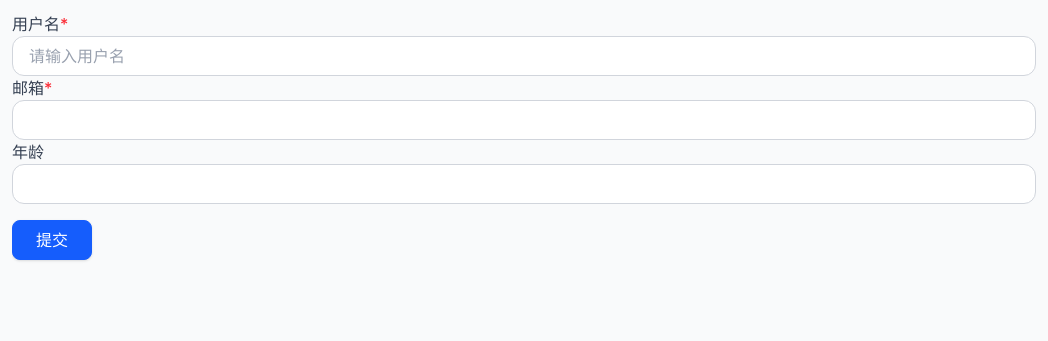
Scenario: Form Component › 表单提交测试 › 应该在验证失败时不提交表单
The image size is (1048, 341).
Click the button "提交": (52, 240) [12, 220, 92, 260]
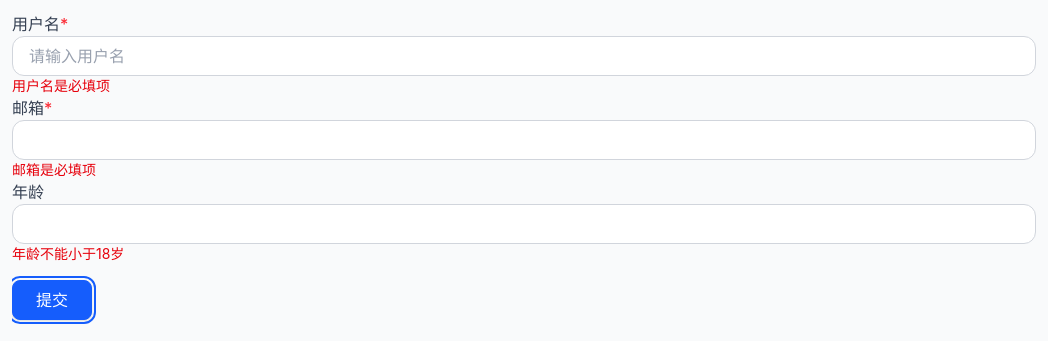
Check: the text "用户名是必填项" is shown, box [12, 77, 110, 94]
Check: the text "邮箱是必填项" is shown, box [12, 161, 96, 178]
